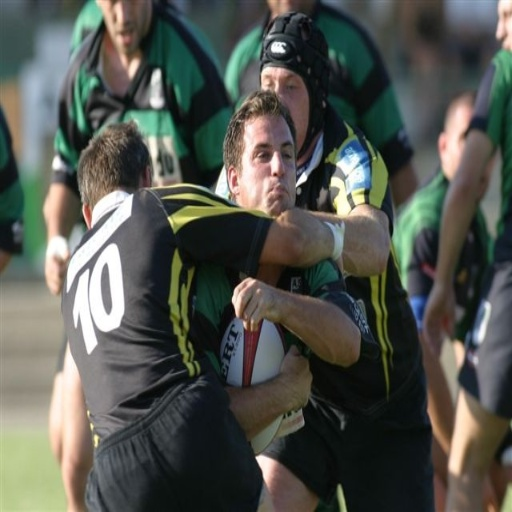hand: (227, 279, 278, 336), (420, 280, 456, 356), (278, 341, 313, 411), (42, 233, 68, 297), (336, 250, 345, 276)
